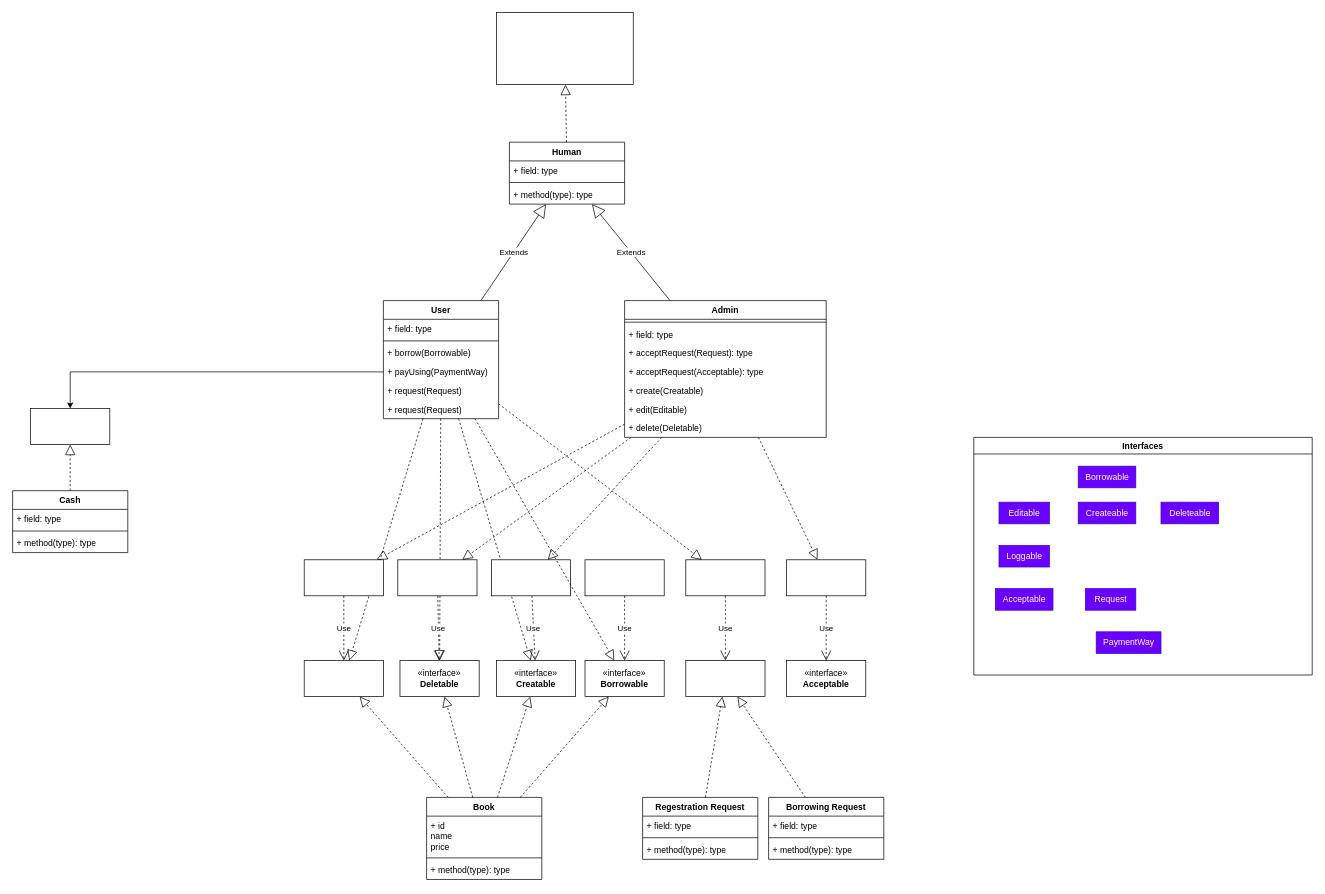
The diagram is 1325 pixels wide and 894 high, and some of its shapes have lost their labels. Here are the shapes that lost their labels. From the top down, the centre of each, then its label:
point (564, 48): <<Interface>> Loggable + login(Type): Type + logout(Type, Type): Type
point (70, 426): «interface» PaymentWay
point (343, 577): «interface» Editor
point (437, 577): «interface» Deletor
point (531, 577): «interface» Creator
point (624, 577): «interface» Borrower
point (725, 577): «interface» Requestor
point (826, 577): «interface» Acceptror
point (343, 678): «interface» Editable
point (725, 678): «interface» Requestable
